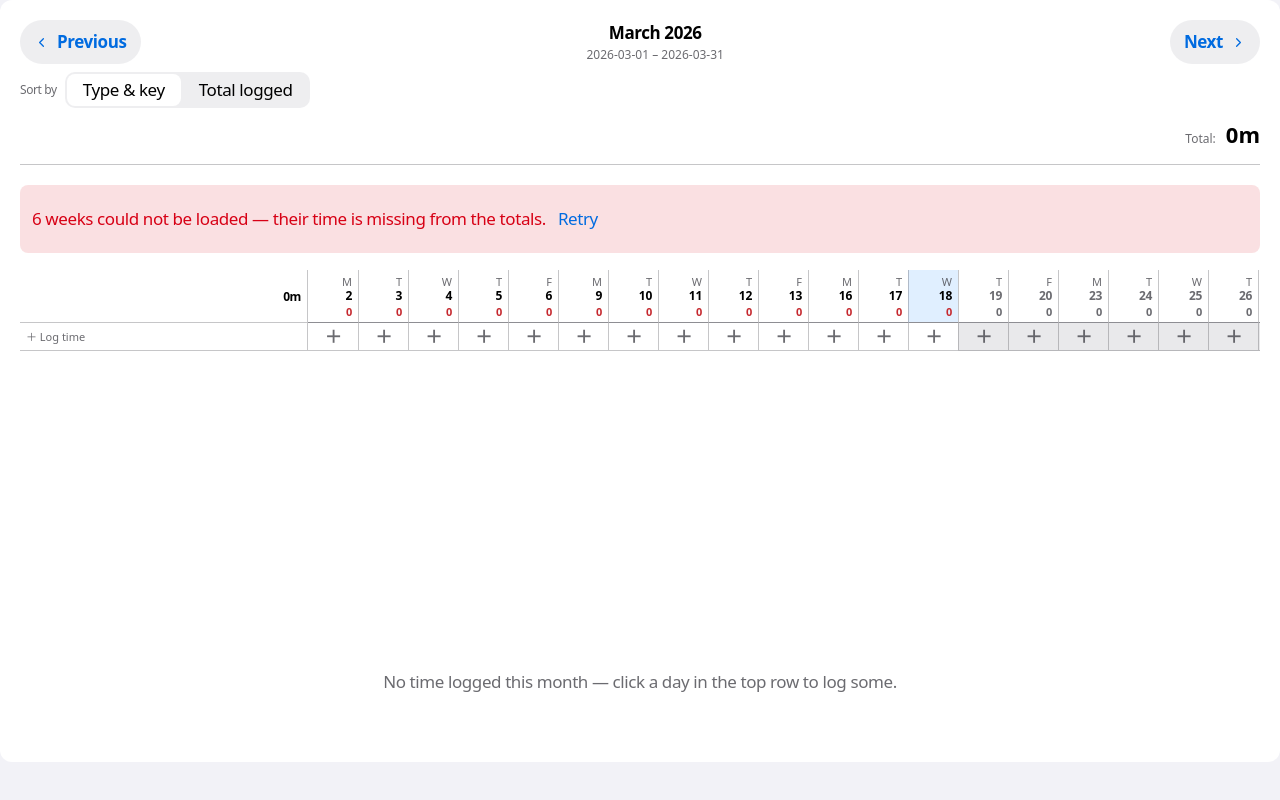
Scenario: when a week could not be read › loads the month again on Retry
Step 1. Click the button "Retry" → (578, 220), box [550, 198, 606, 242]
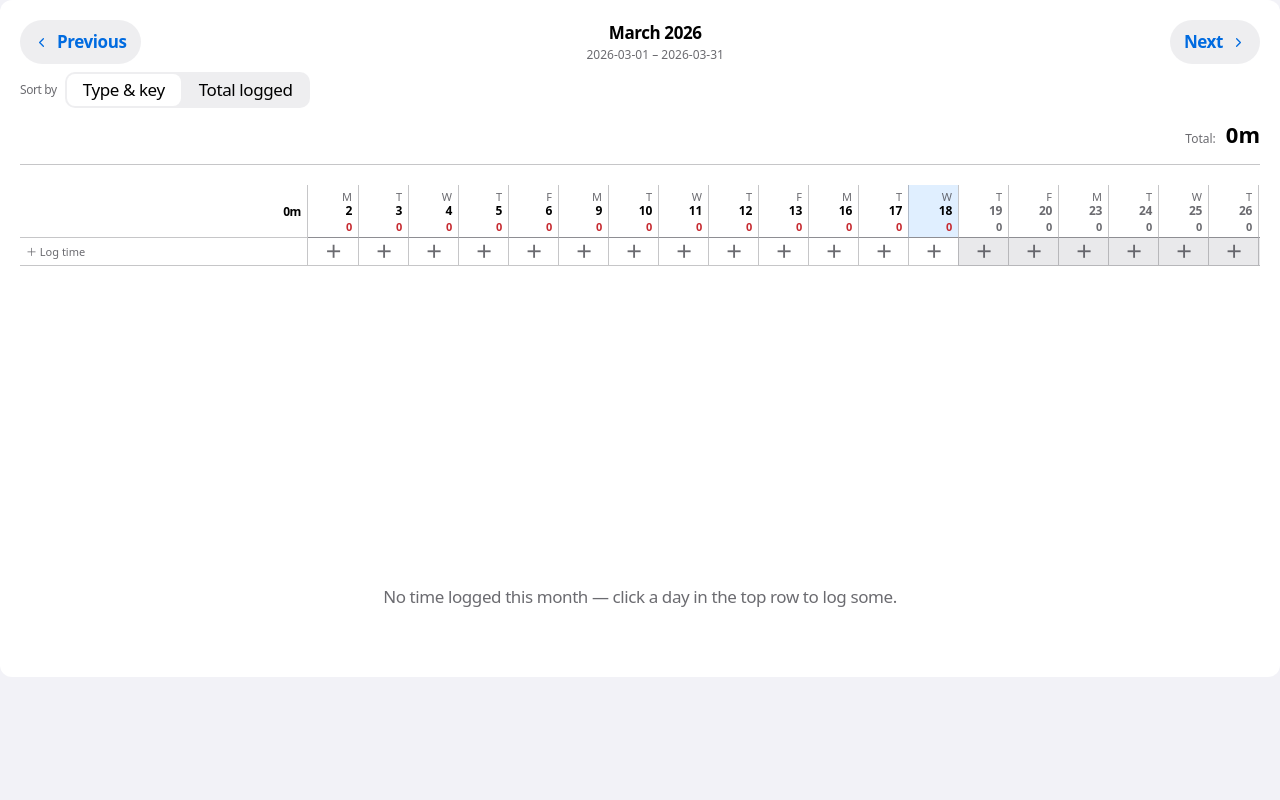
Expected: the button "Retry" is gone
